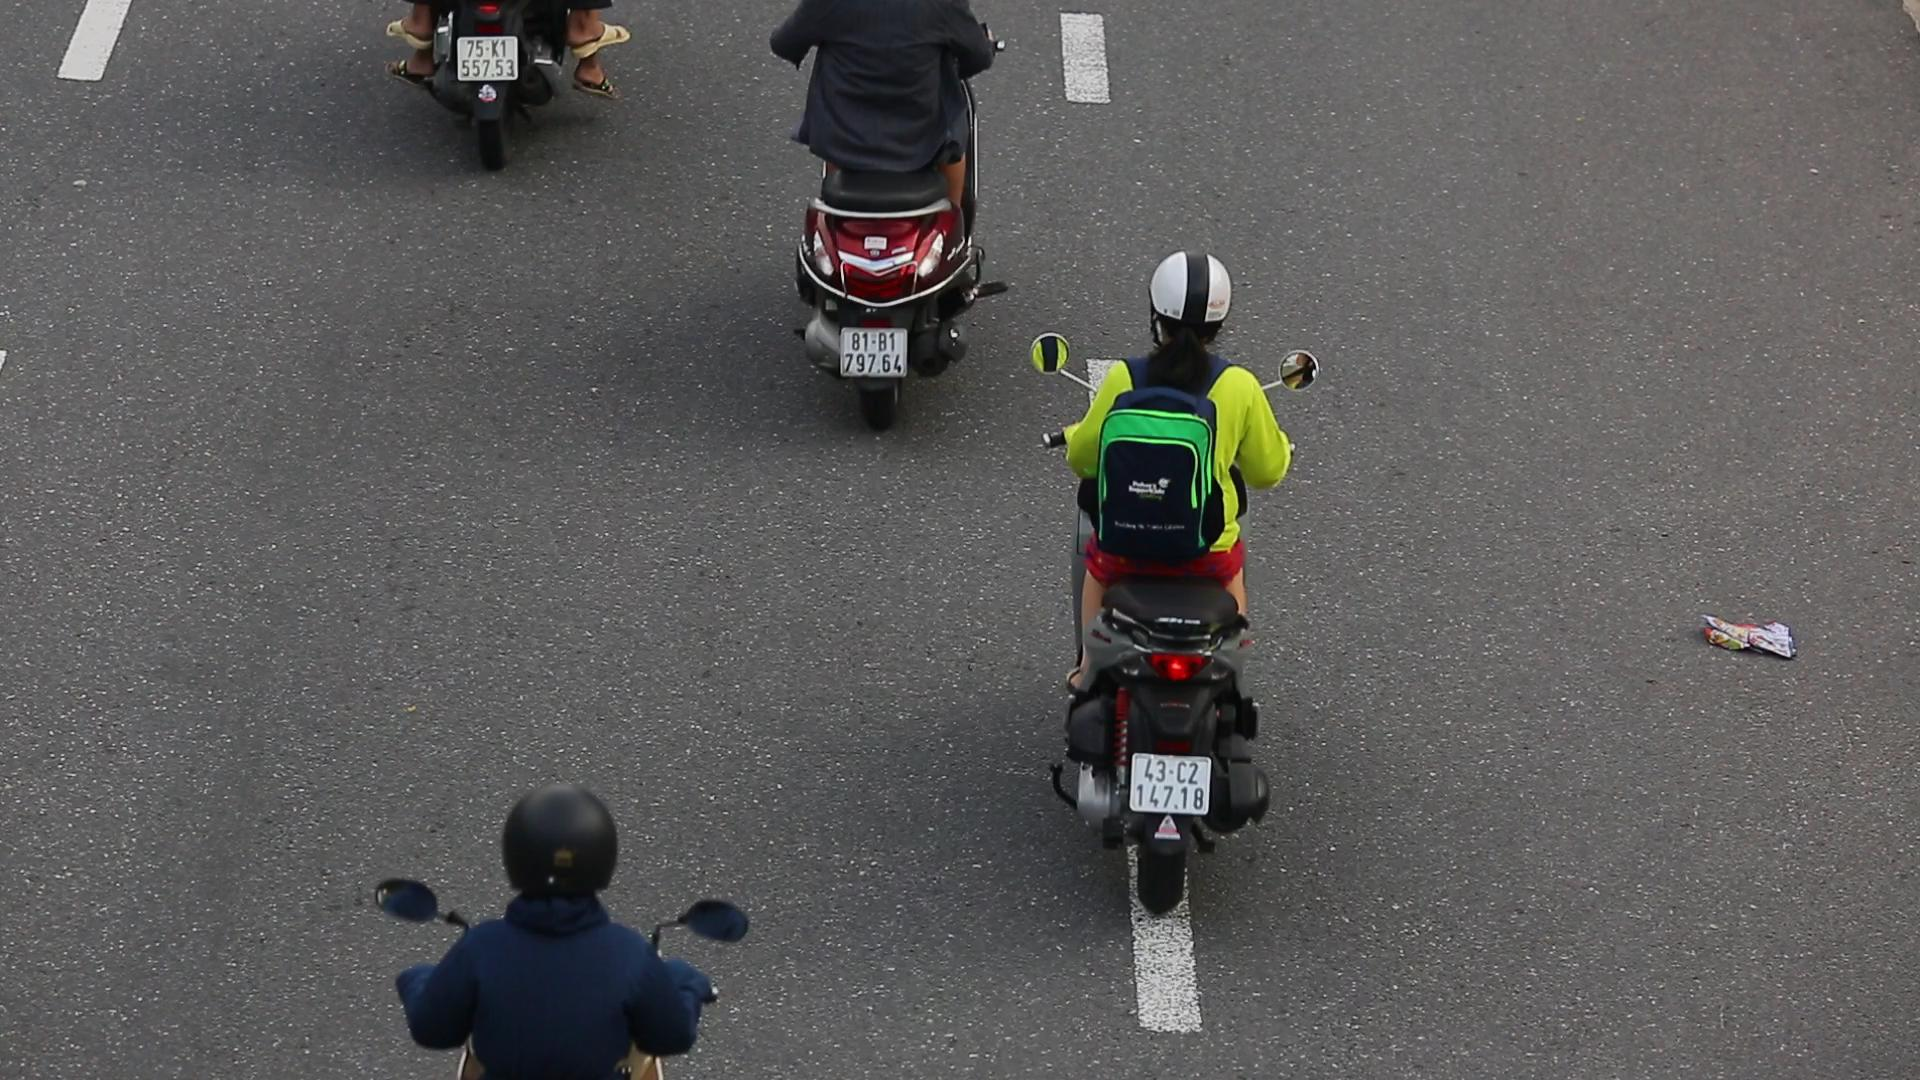motobike: (1027, 232, 1342, 916)
